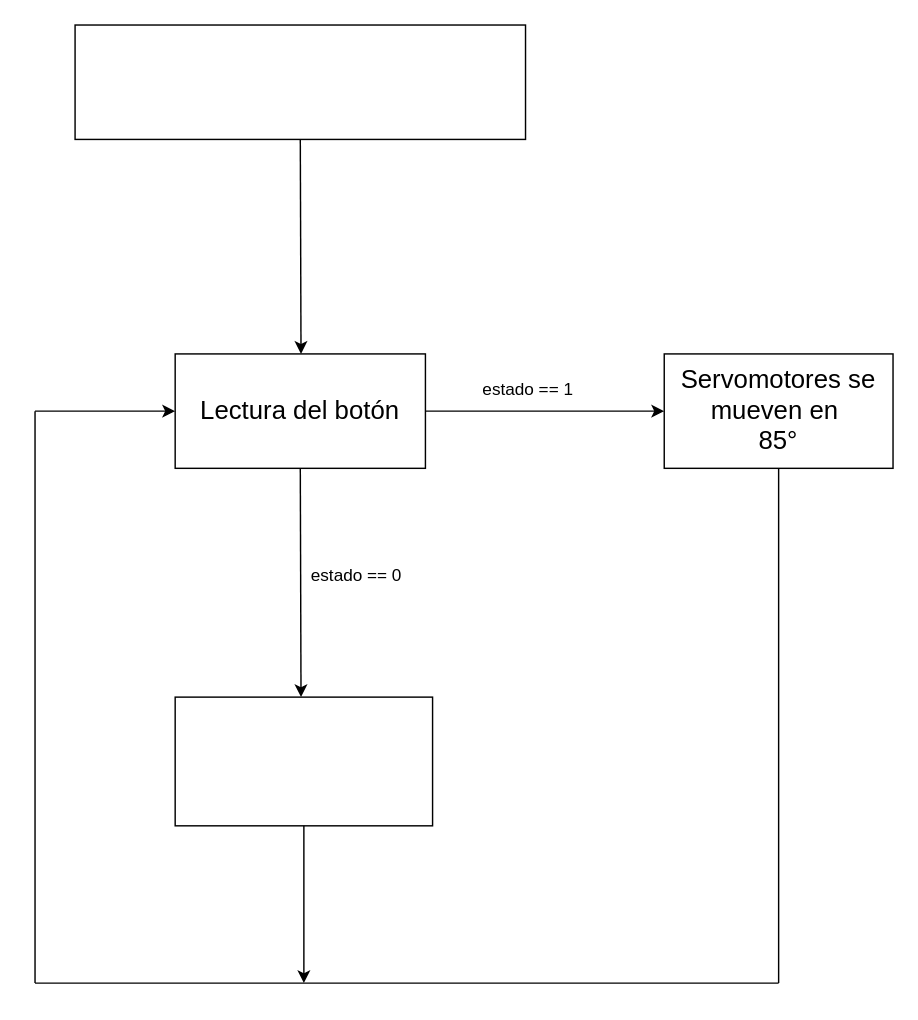
This 918x1020 diagram has some shape labels left out. The box of each missing label's shape, as (x1, y1, x2, y2) in pixels:
Configuración pines: botón y servomotores: (74, 24, 526, 139)
Servomotores vuelven a su posición inicial: (174, 696, 433, 826)
